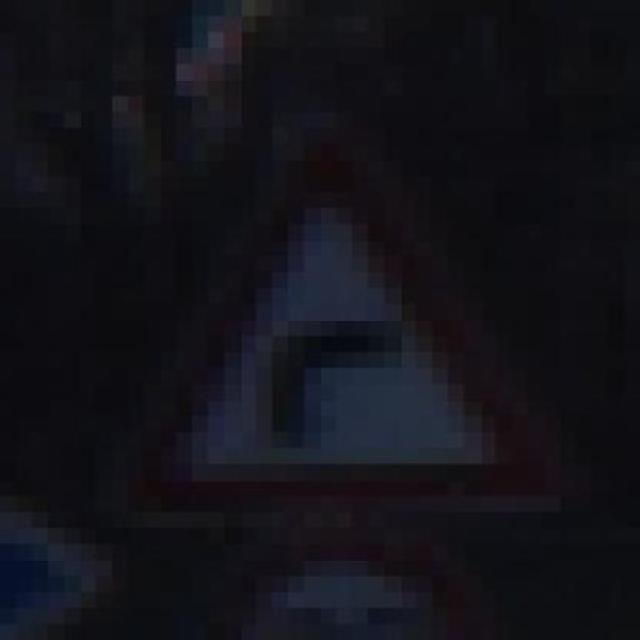Dangerous Rright Curve Ahead: (96, 128, 544, 528)
